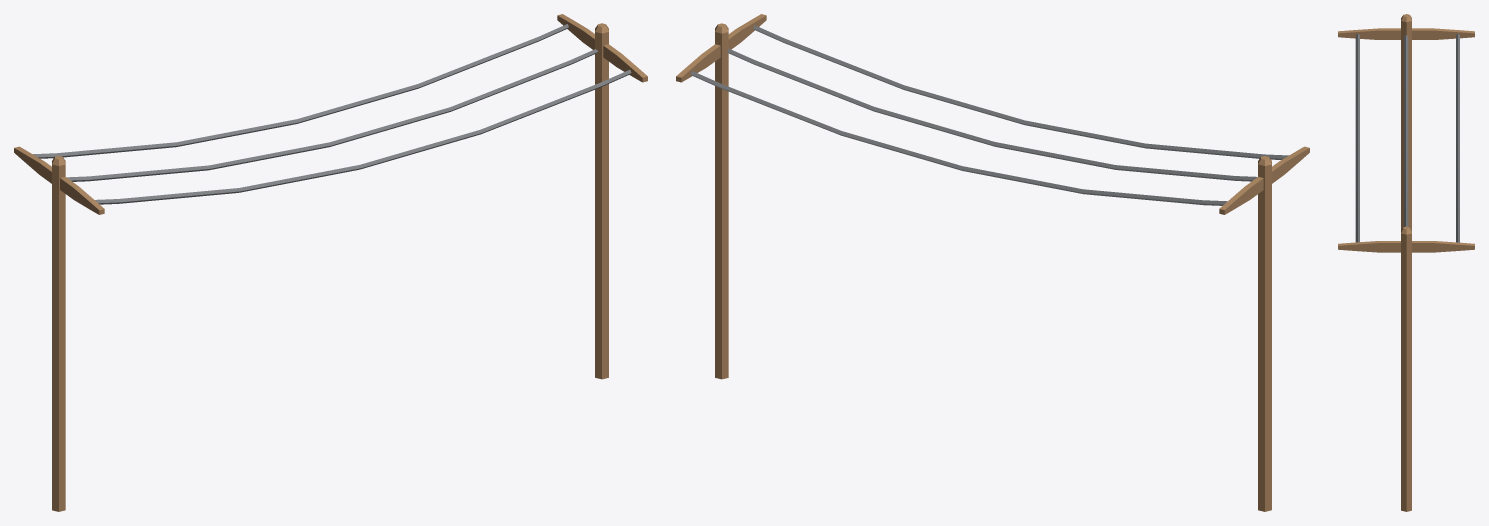
The model's file is SM_clothes_drying_rack_01.fbx.
The picture shows the model from 3 angles, left to right: view 1: azimuth 30°, elevation 25°; view 2: azimuth 150°, elevation 25°; view 3: azimuth 270°, elevation 25°; orthographic projection. The views are drawn at different scales.
Parts seen in each view (by area): view 1: Cylinder010; view 2: Cylinder010; view 3: Cylinder010.
Boxes of the visible parts, x1,y1,x2,y2 form: Cylinder010: (14,14,647,511); Cylinder010: (676,14,1309,511); Cylinder010: (1338,14,1474,511).
Bounding box in the file's own units: 157 × 94.78 × 41.76.
